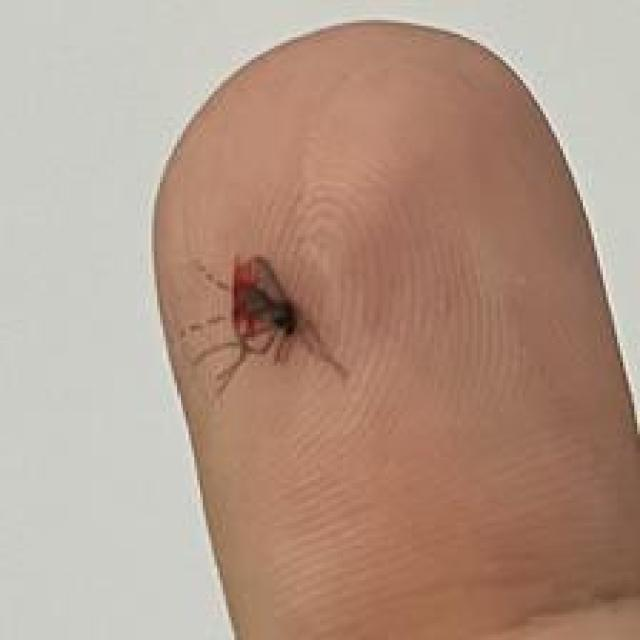Aedes albopictus: (181, 251, 350, 406)
